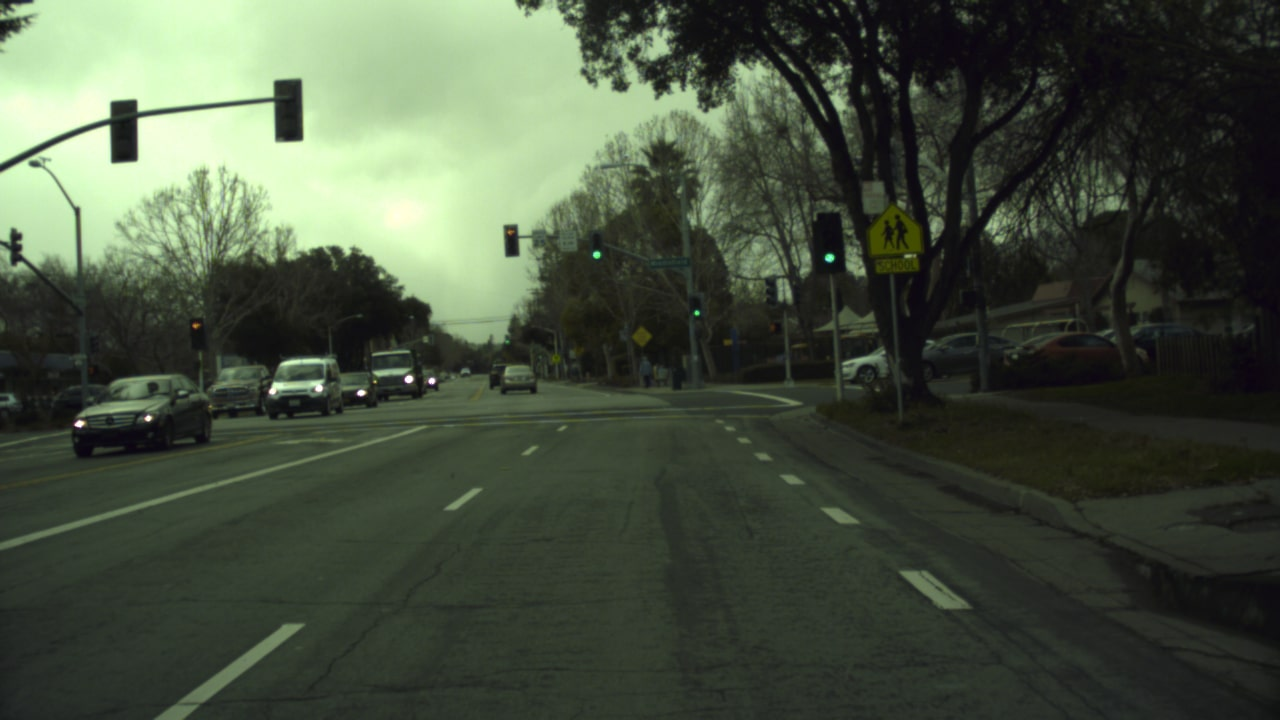signal: (815, 215, 843, 272), (186, 315, 204, 353), (584, 240, 606, 265), (688, 296, 705, 321), (507, 222, 519, 254)
